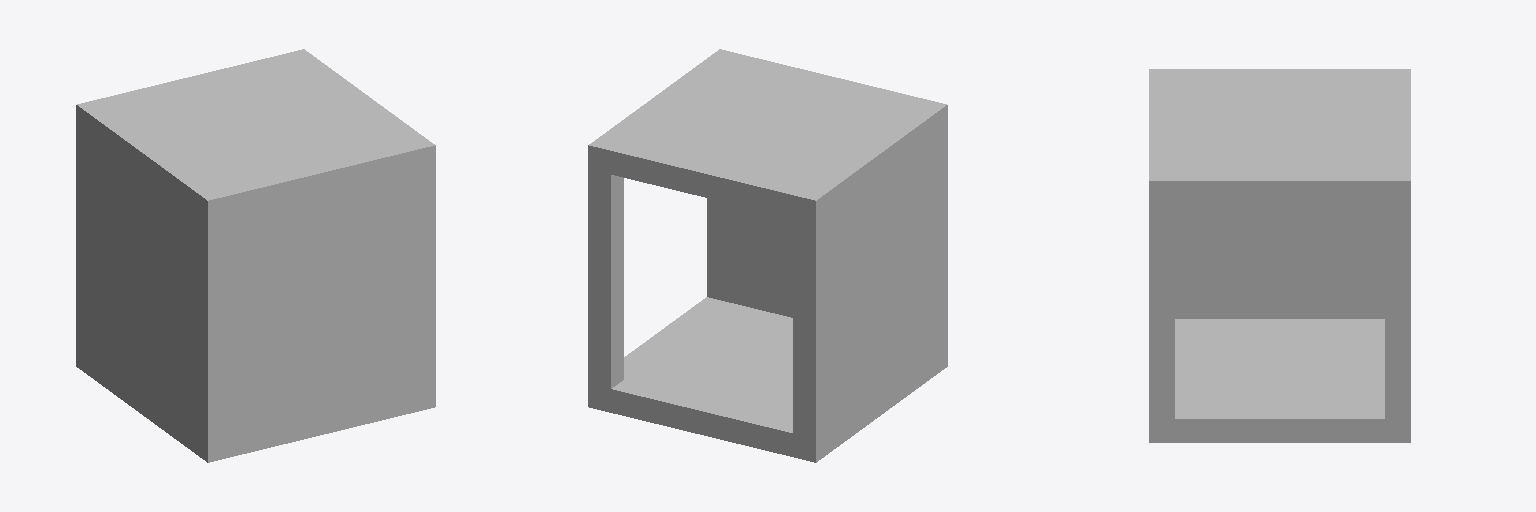
The model's file is wallSet_12.obj.
The picture shows the model from 3 angles: view 1: azimuth 30°, elevation 25°; view 2: azimuth 150°, elevation 25°; view 3: azimuth 270°, elevation 25°; orthographic projection.
Parts seen in each view (by area): view 1: wallSet_12_Cube.005; view 2: wallSet_12_Cube.005; view 3: wallSet_12_Cube.005.
Boxes of the visible parts, <box> form: wallSet_12_Cube.005: <box>76,49,435,462</box>; wallSet_12_Cube.005: <box>588,49,947,462</box>; wallSet_12_Cube.005: <box>1149,69,1410,442</box>.
Size of the model in its own units: 2 by 2.2 by 2.